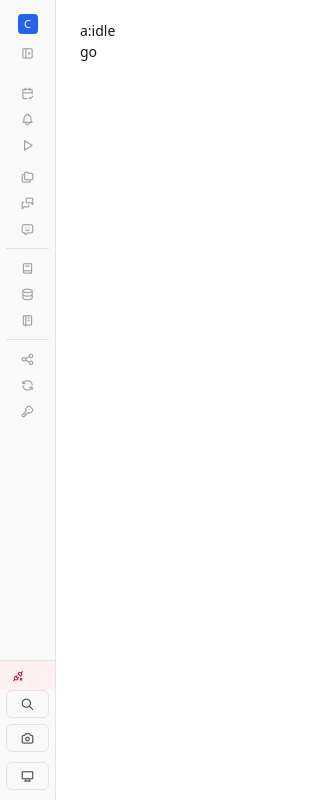
TASK-1966 — Shell provides the recorder to every route › resolves the recorder on one route and still resolves it after navigating to another
Expected: the text with test id "probe" reads "a:idle", [80,21,115,40]
Click the link "go". click: coordinates (89, 52)
box: [80,42,97,61]
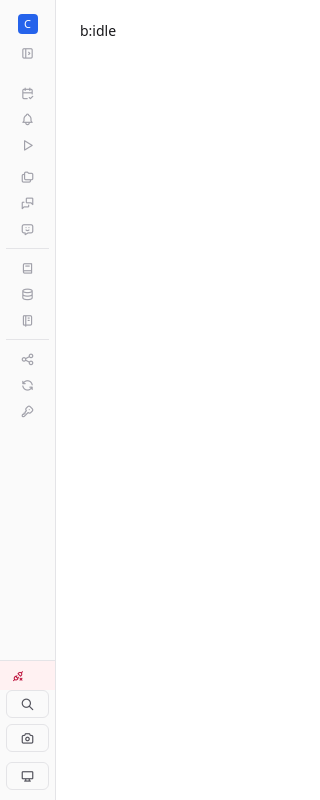
Expected: the text with test id "probe" reads "b:idle", [80,21,116,40]
